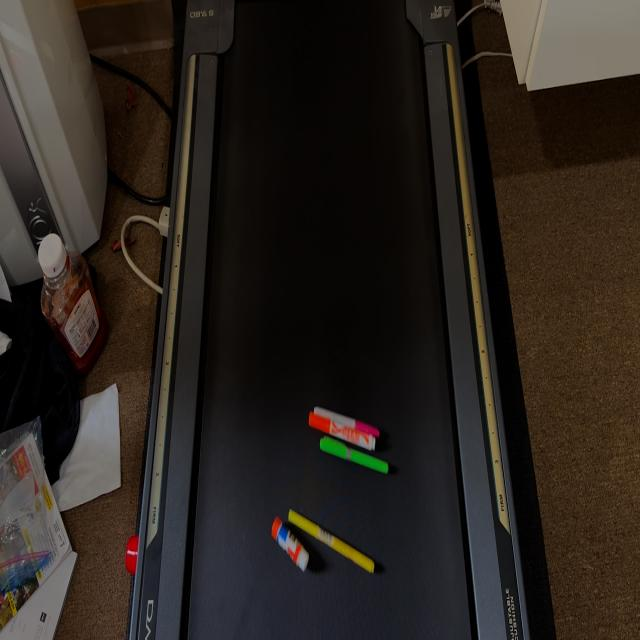Trash: (269, 506, 377, 578), (306, 403, 391, 479)
